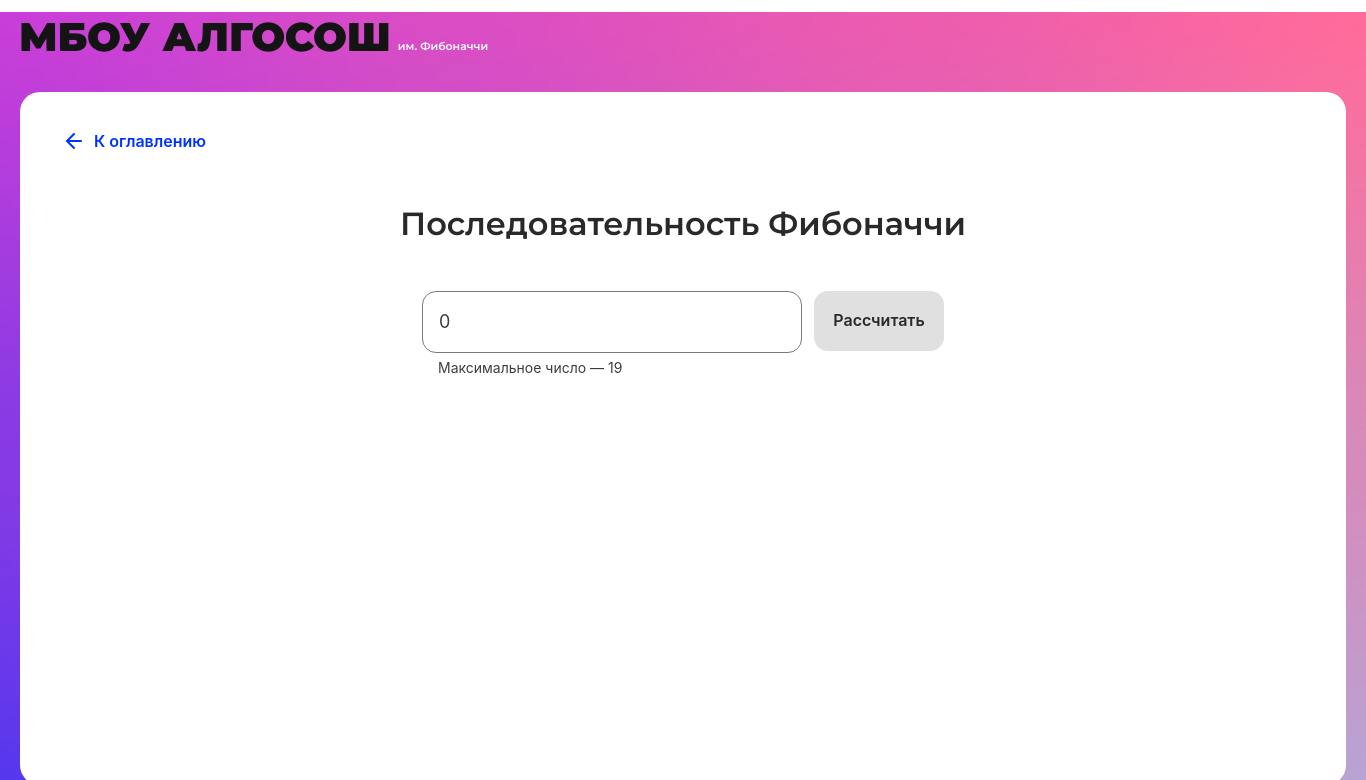
Test case: Проверка фибоначи › Если в инпуте пусто, то кнопка добавления недоступна
This screenshot has width=1366, height=780.
Expected: the heading "Последовательность Фибоначчи" is shown, x1=400 y1=204 x2=966 y2=243
Expected: the button "Рассчитать" is disabled, x1=814 y1=291 x2=944 y2=351
Type "3" into the number field at (612, 322), box x1=422 y1=291 x2=802 y2=353
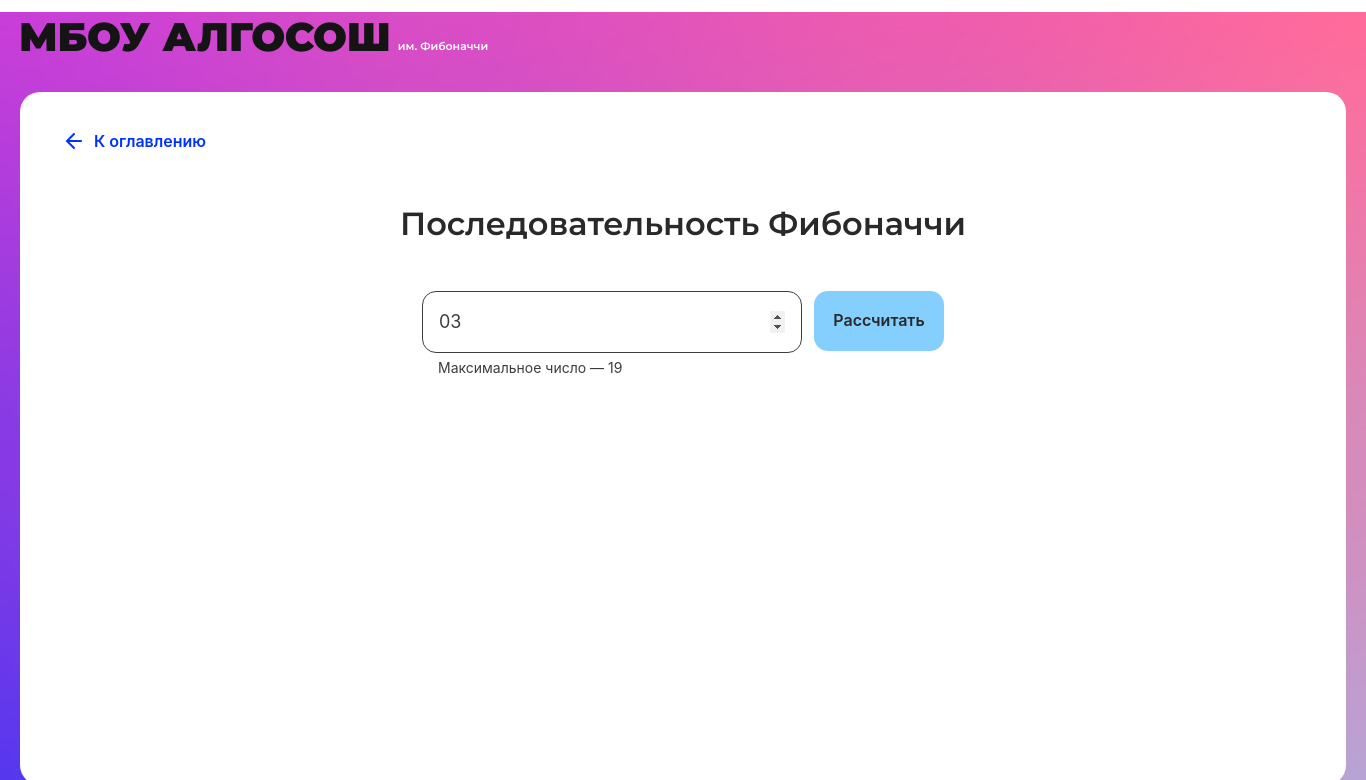
Expected: the text "Рассчитать" is enabled
Clear the number field at (612, 322), box x1=422 y1=291 x2=802 y2=353
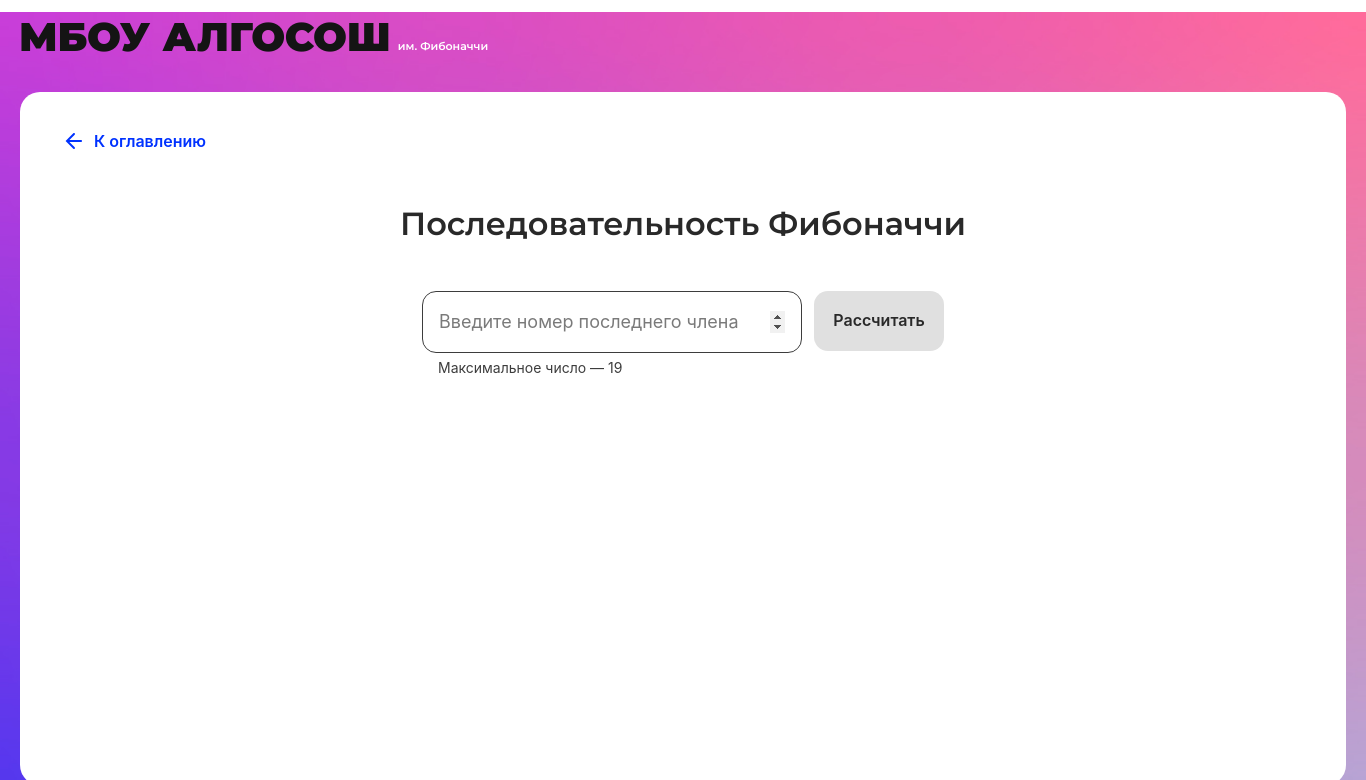
Expected: the button "Рассчитать" is disabled, x1=814 y1=291 x2=944 y2=351
